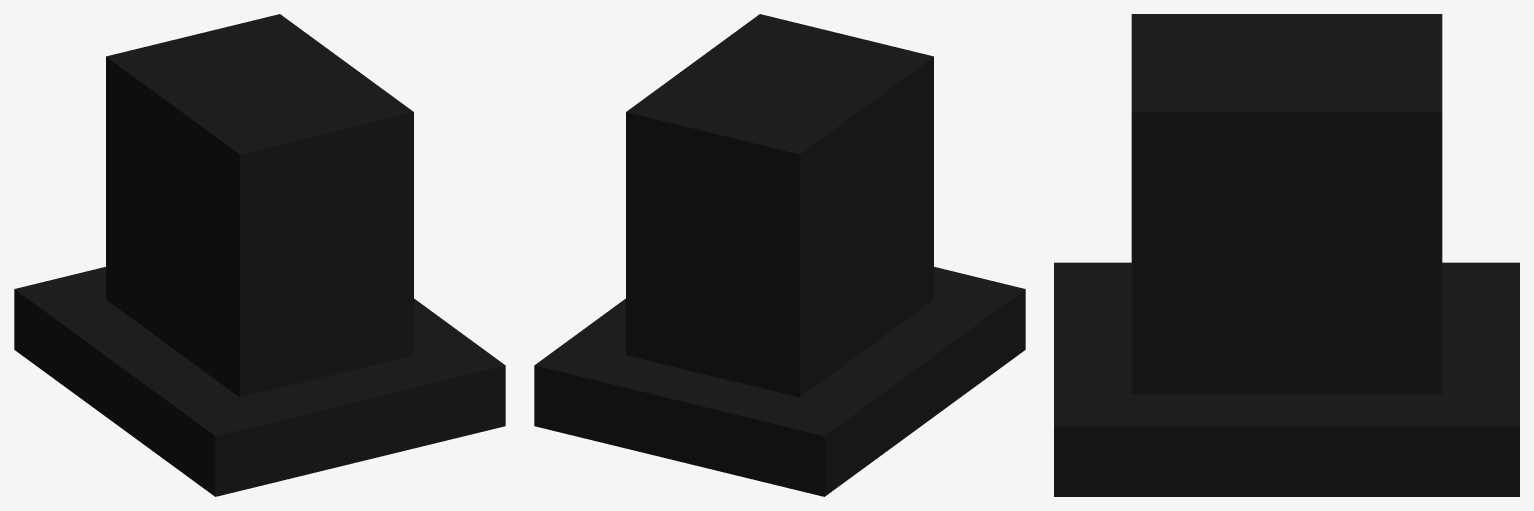
Rendered from Hat_02.dae.
The picture shows the model from 3 angles, left to right: view 1: azimuth 30°, elevation 25°; view 2: azimuth 150°, elevation 25°; view 3: azimuth 270°, elevation 25°; orthographic projection. The views are drawn at different scales.
Parts seen in each view (by area): view 1: Hat_02; view 2: Hat_02; view 3: Hat_02.
Part boxes in pixels (x1,y1,x2,y2): Hat_02: (14,14,505,496); Hat_02: (534,14,1025,496); Hat_02: (1054,14,1519,496).
Bounding box in the file's own units: 0.5 × 0.5 × 0.6.
Materials: 1 (1 with a texture image).
